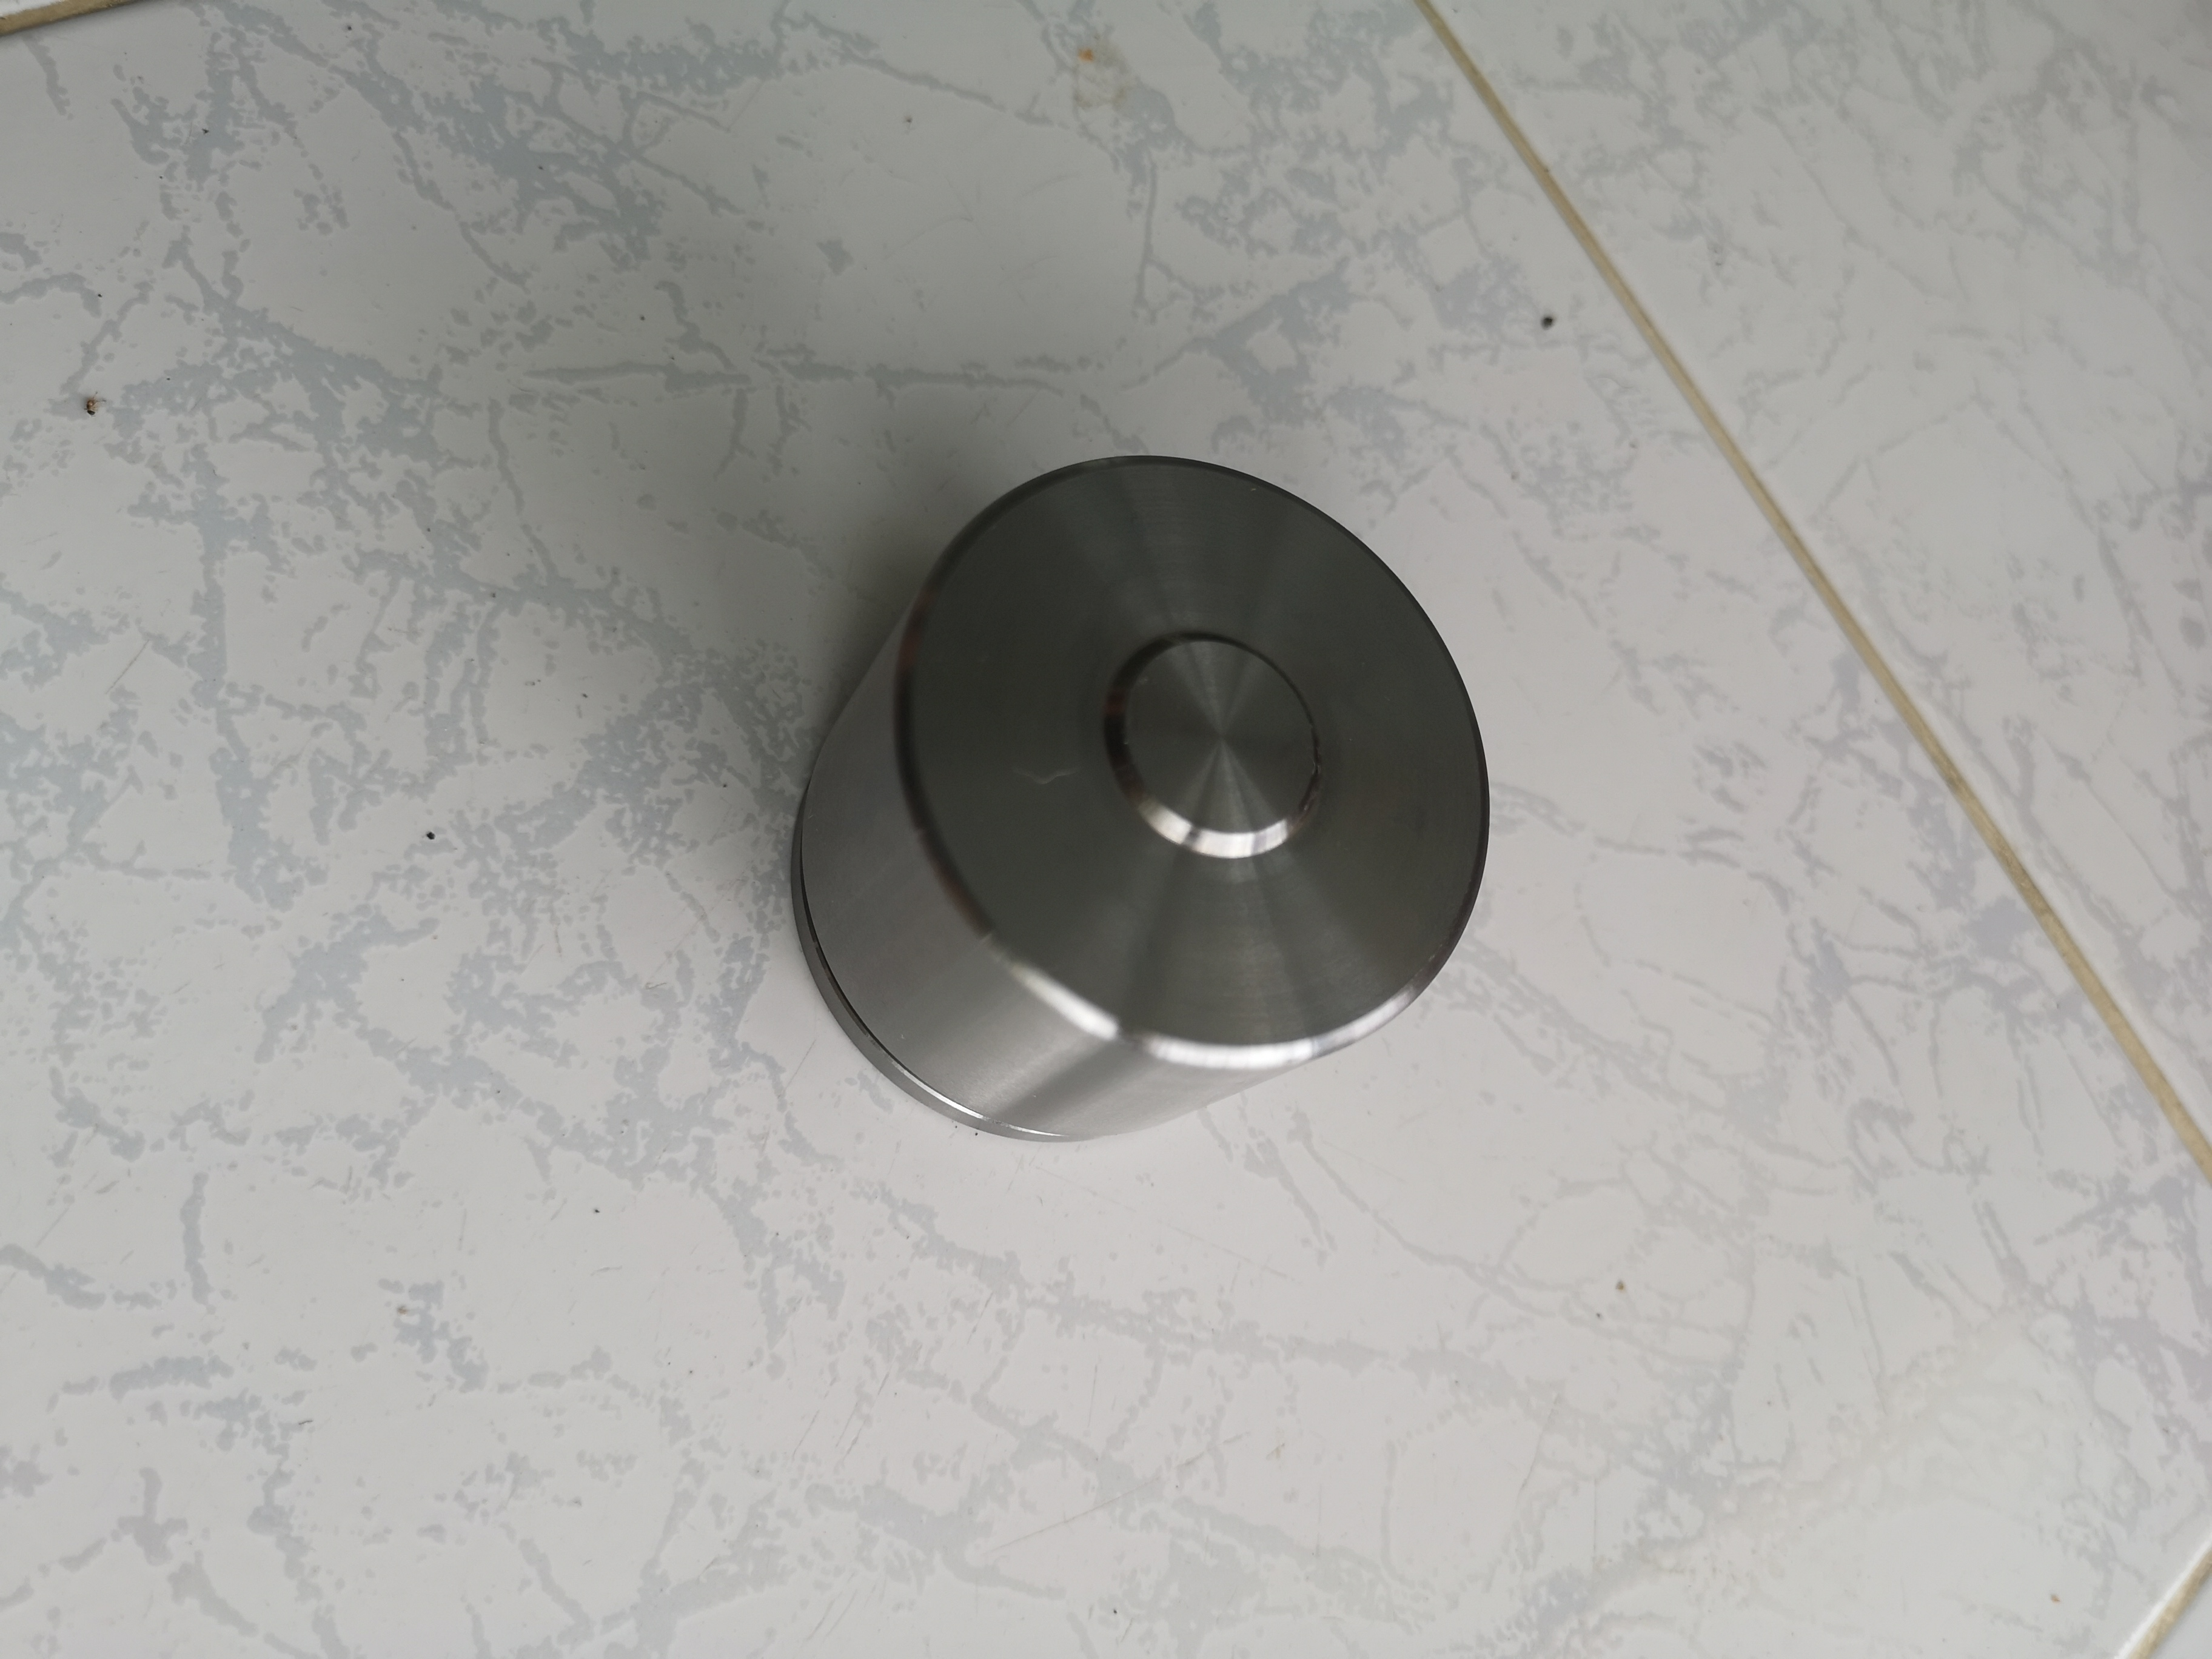ลูกสูบดิสเบรค: (705, 413, 1524, 1201)
